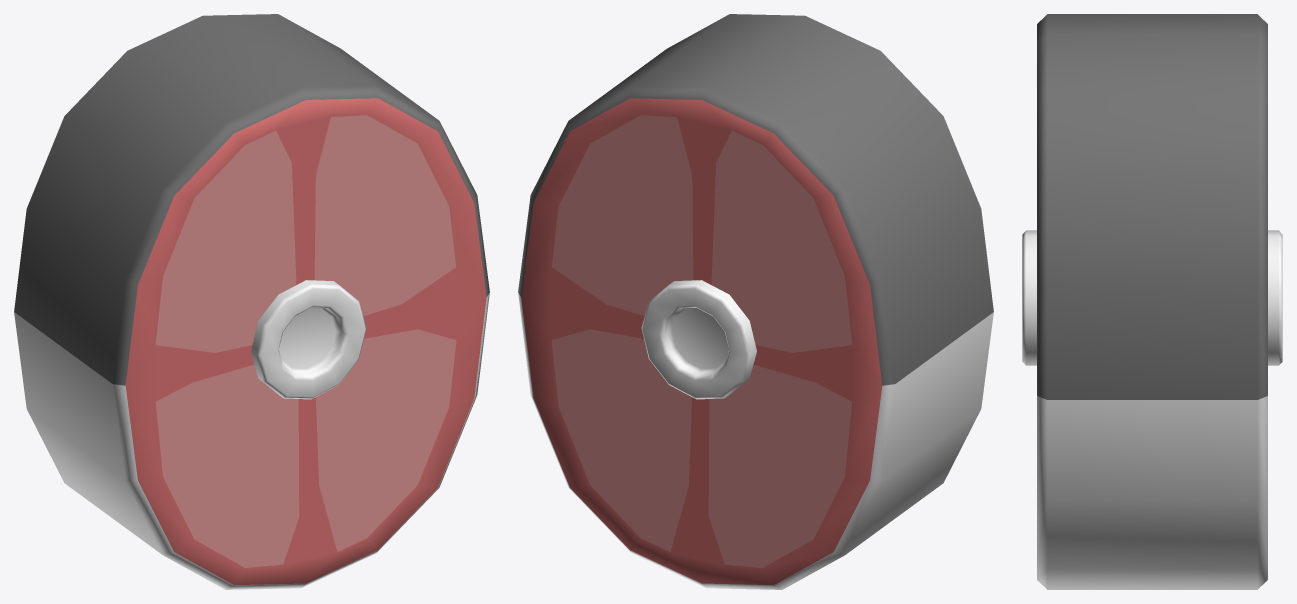
Rendered from Sardine_3_Slice.fbx.
The picture shows the model from 3 angles, left to right: view 1: azimuth 30°, elevation 25°; view 2: azimuth 150°, elevation 25°; view 3: azimuth 270°, elevation 25°; orthographic projection. The views are drawn at different scales.
Visible parts, largest first — view 1: Sardine_3_Slice; view 2: Sardine_3_Slice; view 3: Sardine_3_Slice.
Part boxes in pixels (x1,y1,x2,y2): Sardine_3_Slice: (14,14,489,589); Sardine_3_Slice: (518,14,993,589); Sardine_3_Slice: (1022,14,1282,589).
Size of the model in its own units: 3.85 by 4.88 by 2.16.
